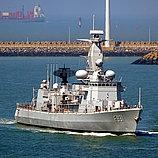MIL_Ship: (12, 36, 148, 136)
